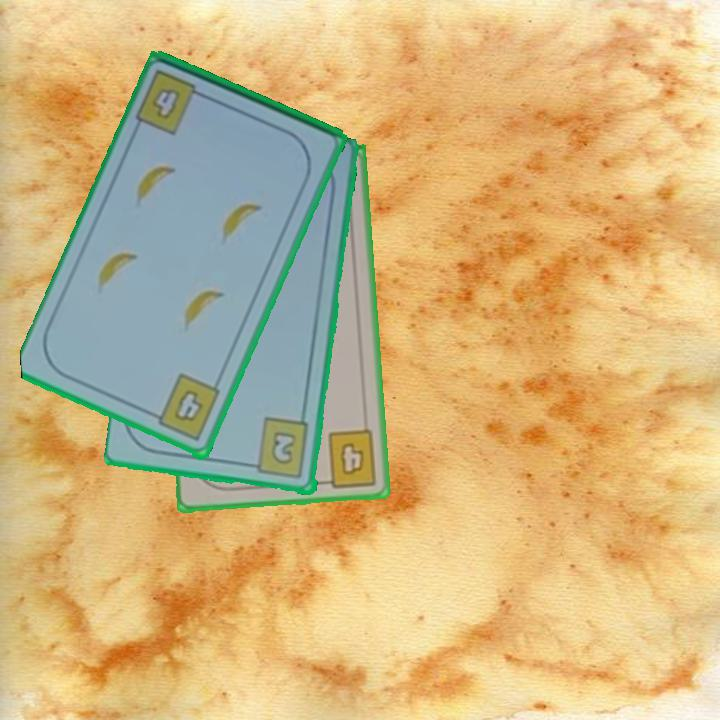2b: (245, 415, 312, 482)
4b: (132, 66, 212, 138), (146, 371, 223, 445), (316, 426, 380, 490)
